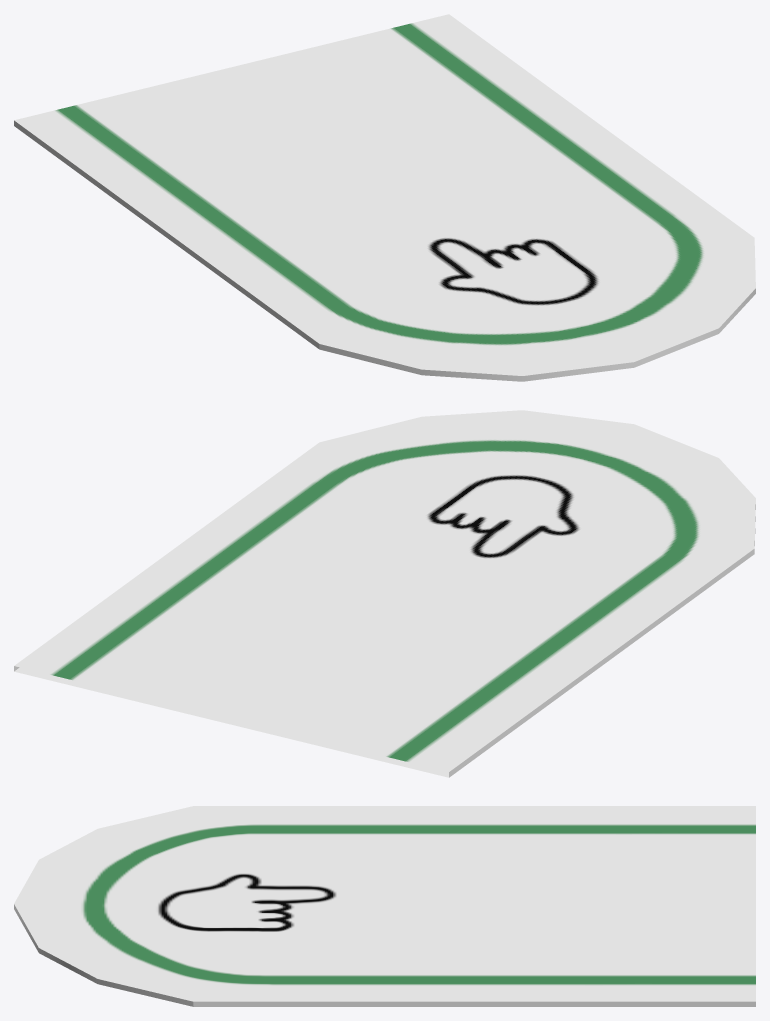
Rendered from trash(green).FBX.
The picture shows the model from 3 angles, top to bottom: view 1: azimuth 30°, elevation 25°; view 2: azimuth 150°, elevation 25°; view 3: azimuth 270°, elevation 25°; orthographic projection. The views are drawn at different scales.
Parts seen in each view (by area): view 1: Turn010; view 2: Turn010; view 3: Turn010.
Boxes of the visible parts, left/top/right/bottom form: Turn010: left=14, top=14, right=755, bottom=381; Turn010: left=14, top=410, right=755, bottom=777; Turn010: left=14, top=806, right=755, bottom=1006.
Size of the model in its own units: 80 by 1 by 128.
